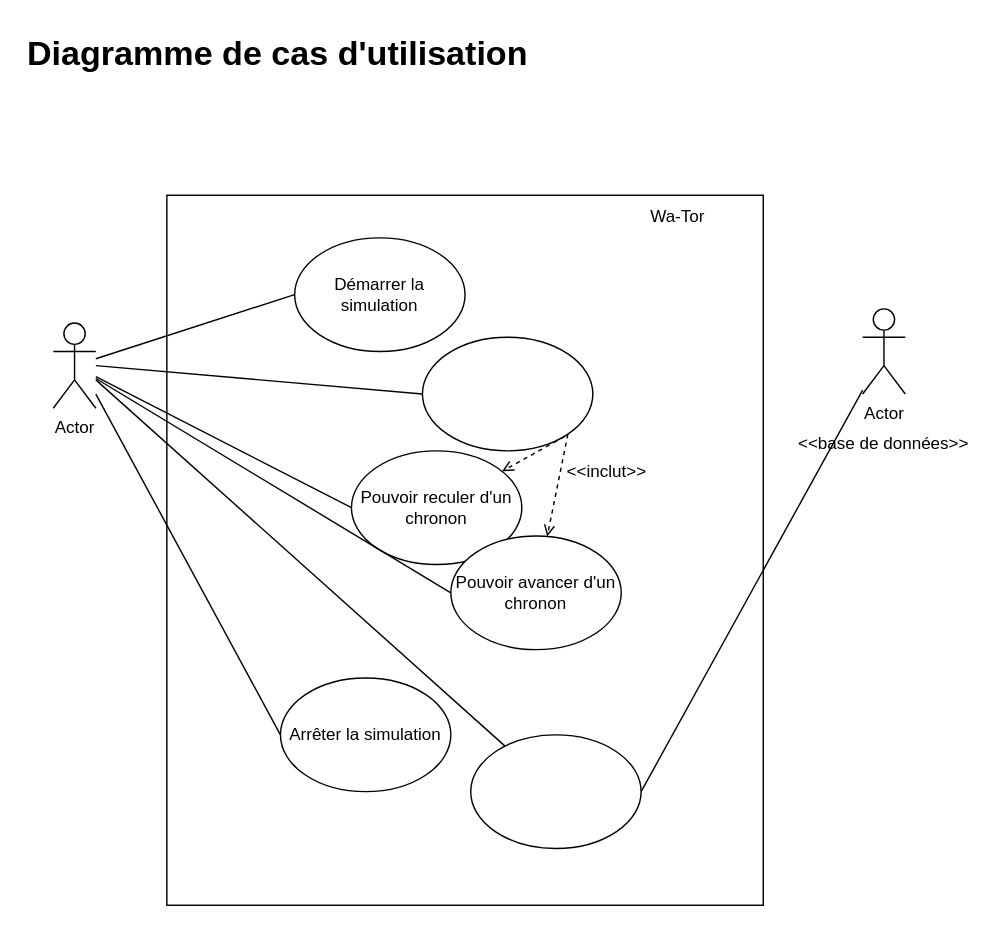
This 1000x930 diagram has some shape labels left out. The shapes that lost their labels are listed below. From the top down, each one's centre as x and y in pixels, then its label:
At point (507, 393): "Faire une pause".
At point (555, 790): "Sauvegarder des données (paramètres, statistiques)".
